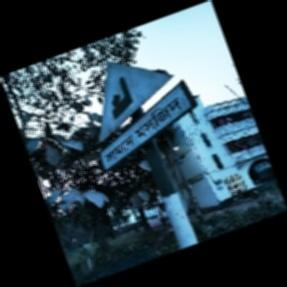Mosque in front: (99, 62, 194, 171)
